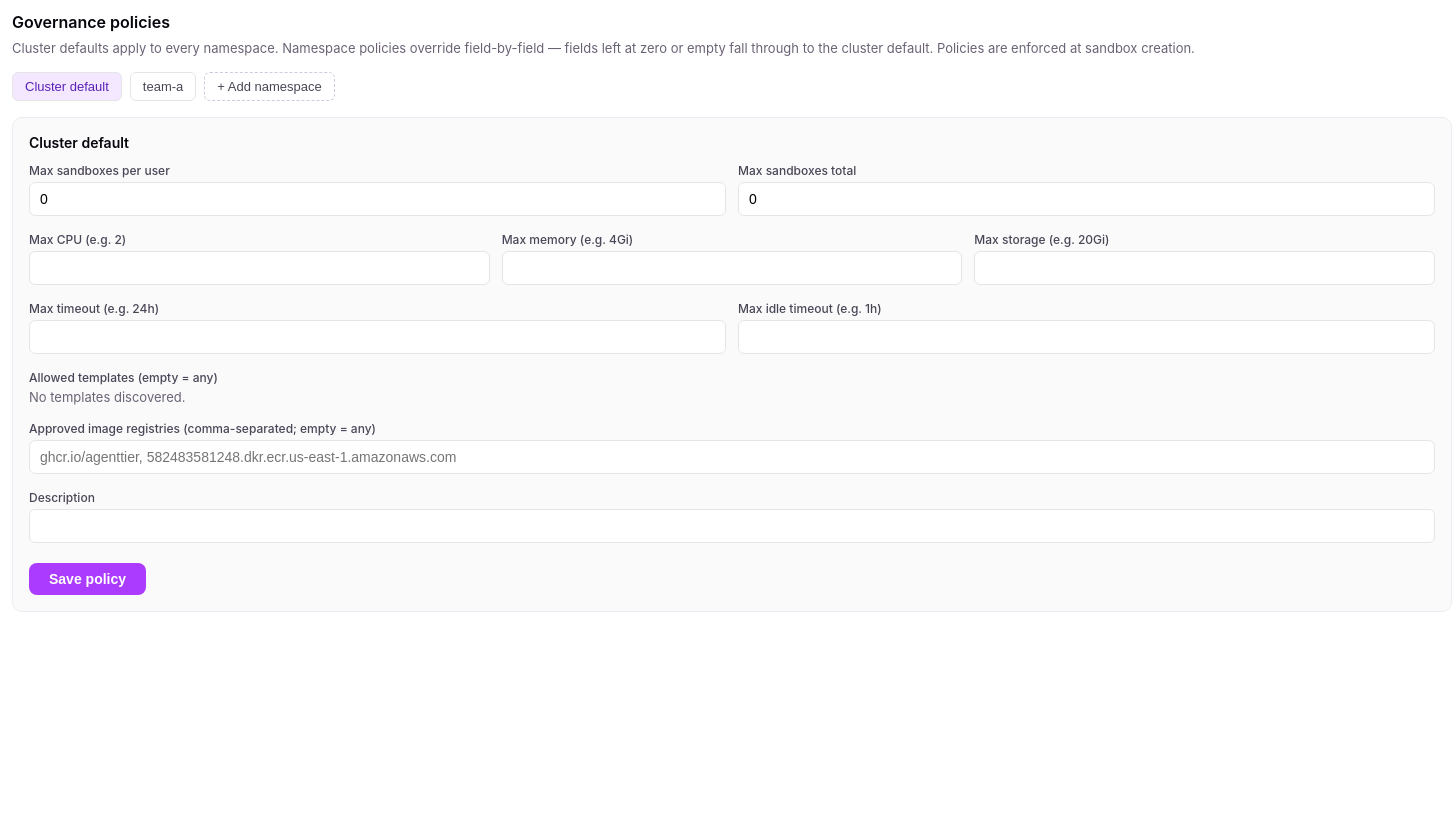
Scenario: GovernanceEditor › deletes a namespace policy after confirmation
expect the heading "Governance policies" is shown: met, box [12, 12, 170, 32]
Click the button "team-a" at [163, 86], box [130, 72, 196, 101]
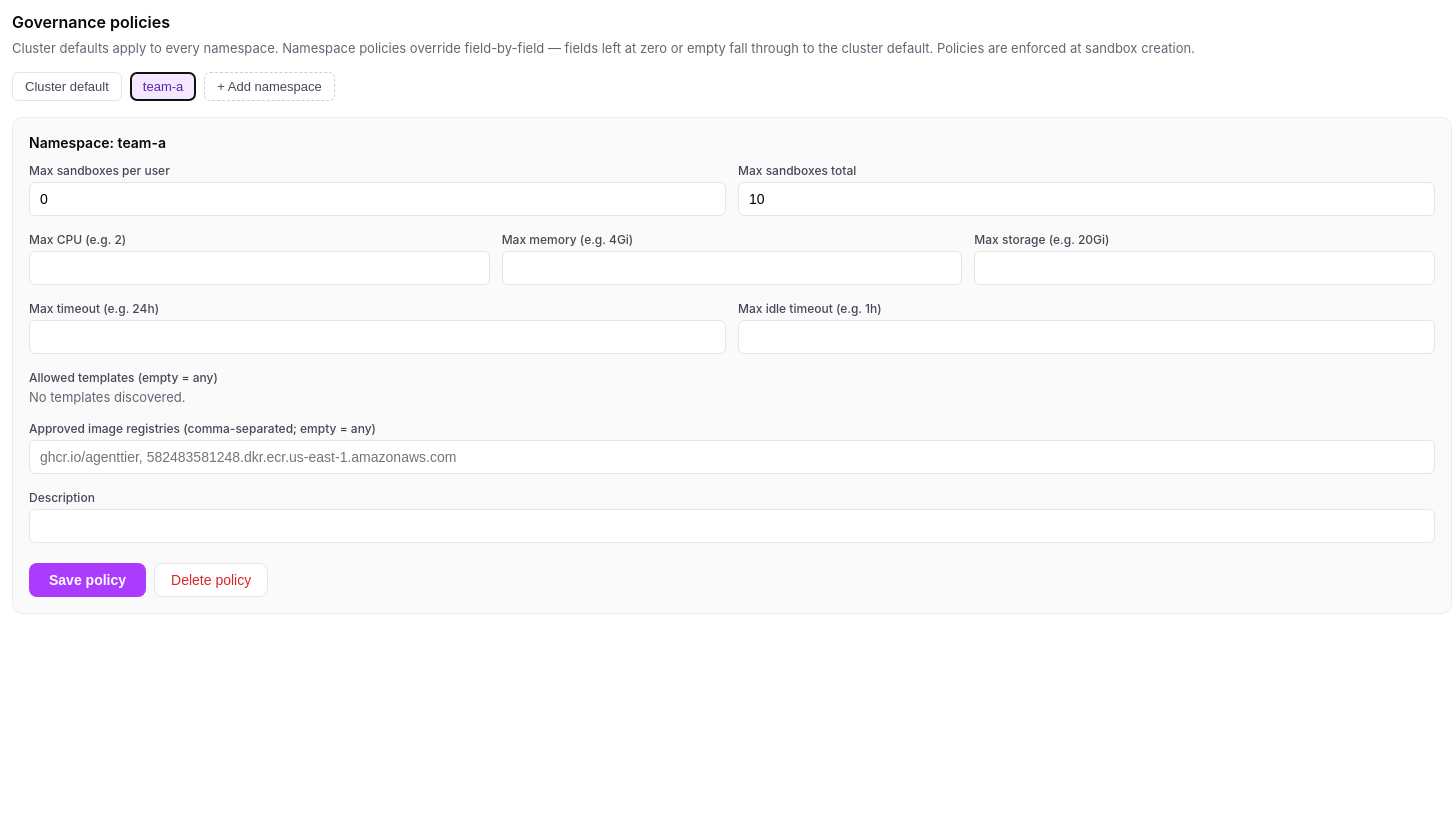
Click the button "Delete policy" at [211, 580], box [154, 563, 268, 597]
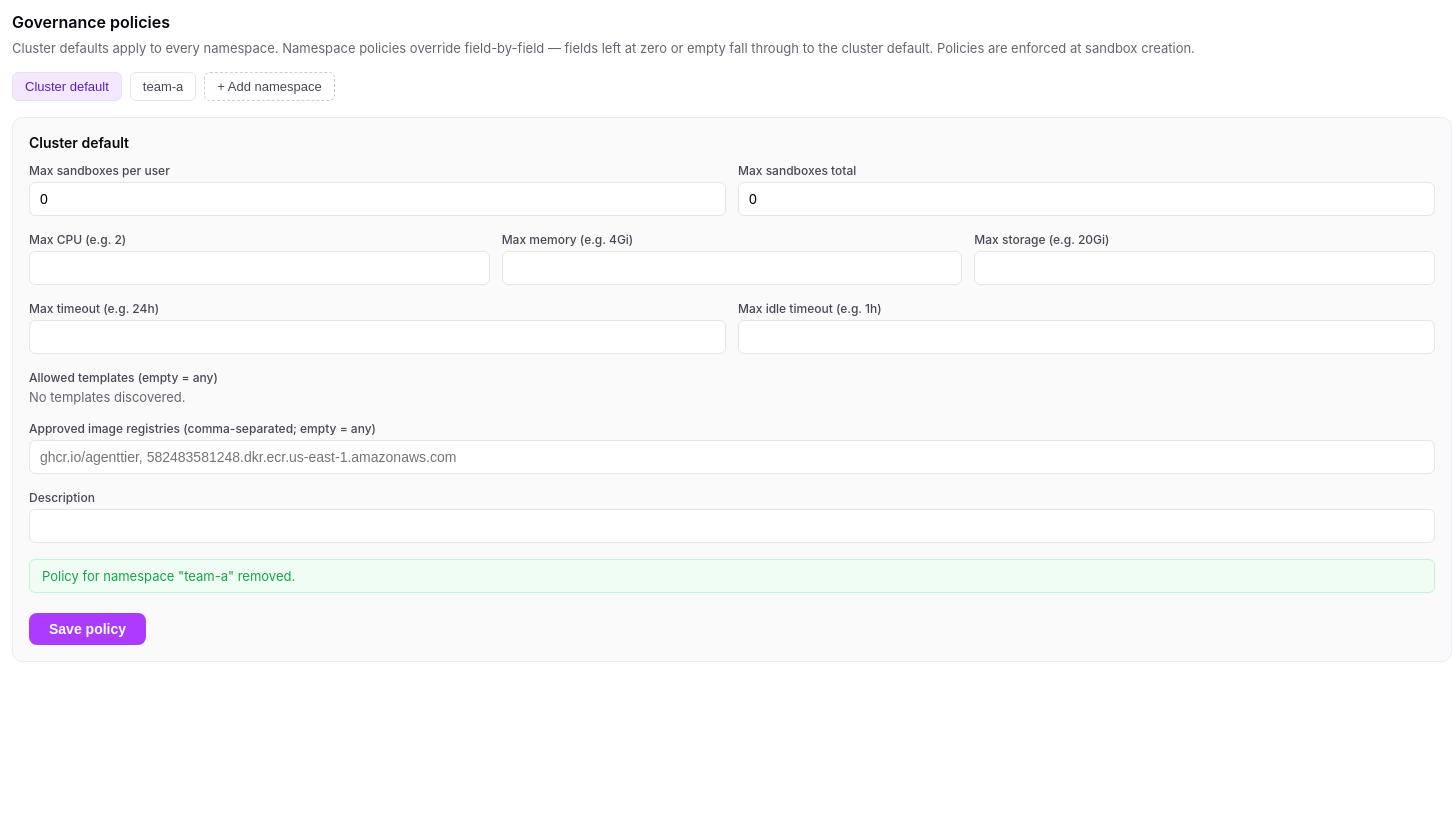
expect the text "Policy for namespace \"team-a\" removed." is shown: met, box [29, 559, 1435, 593]
